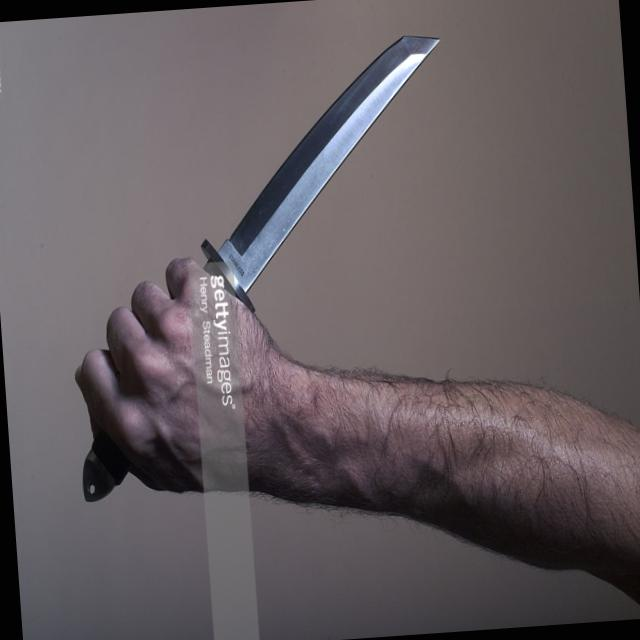knife: (79, 21, 475, 364)
